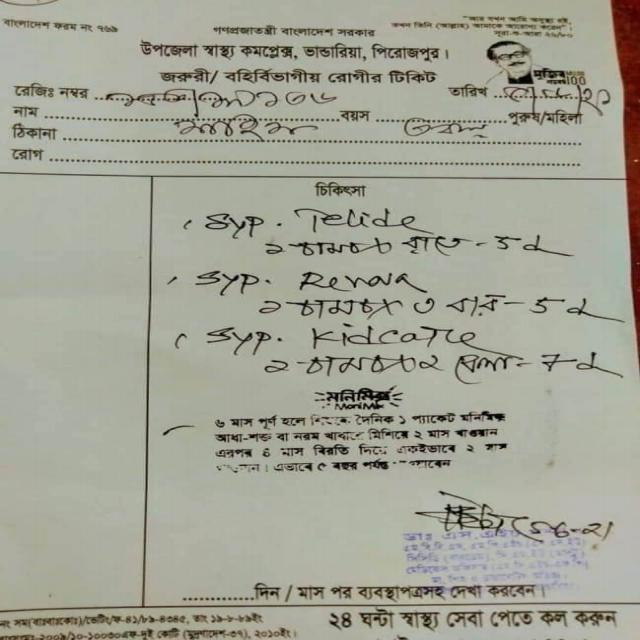Kidcare: (304, 321, 485, 351)
Renova: (294, 265, 422, 295)
Telide: (287, 205, 427, 235)
